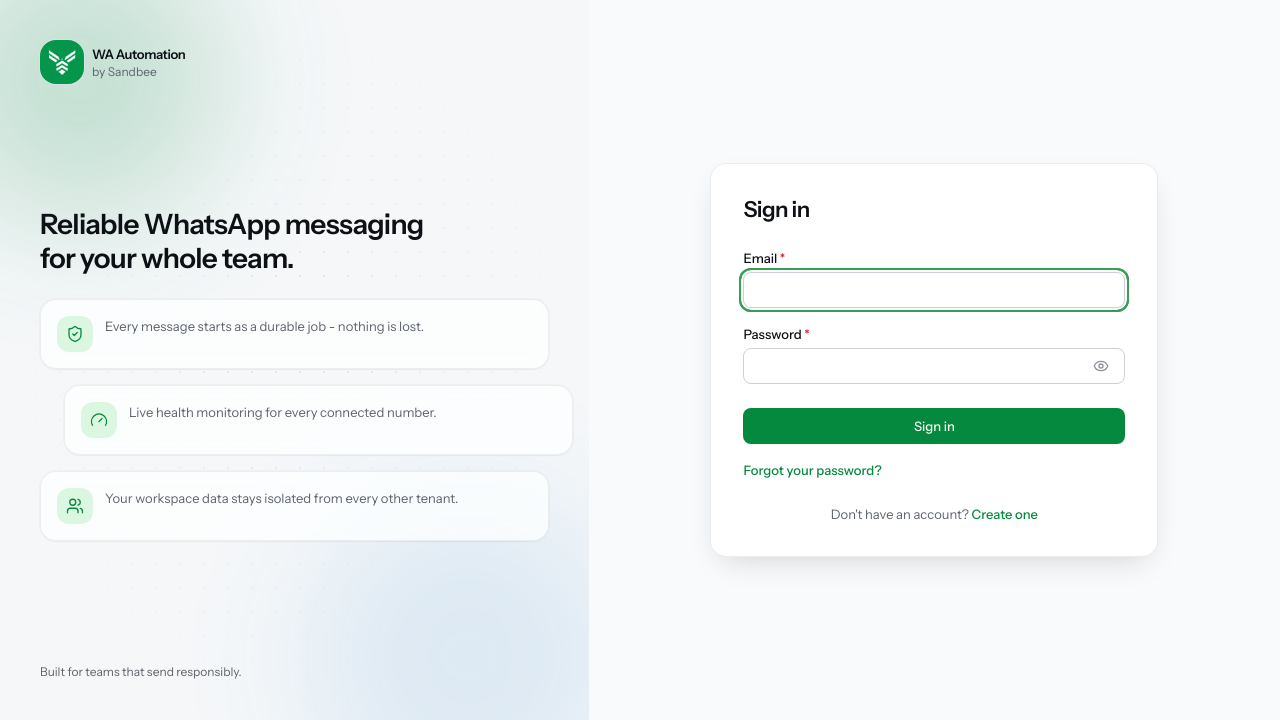
Scenario: LoginForm › maps_EMAIL_NOT_VERIFIED_to_its_copy
In the field with test id "login-email": (934, 290) top-left (743, 272), bottom-right (1125, 308), type "owner@example.com"
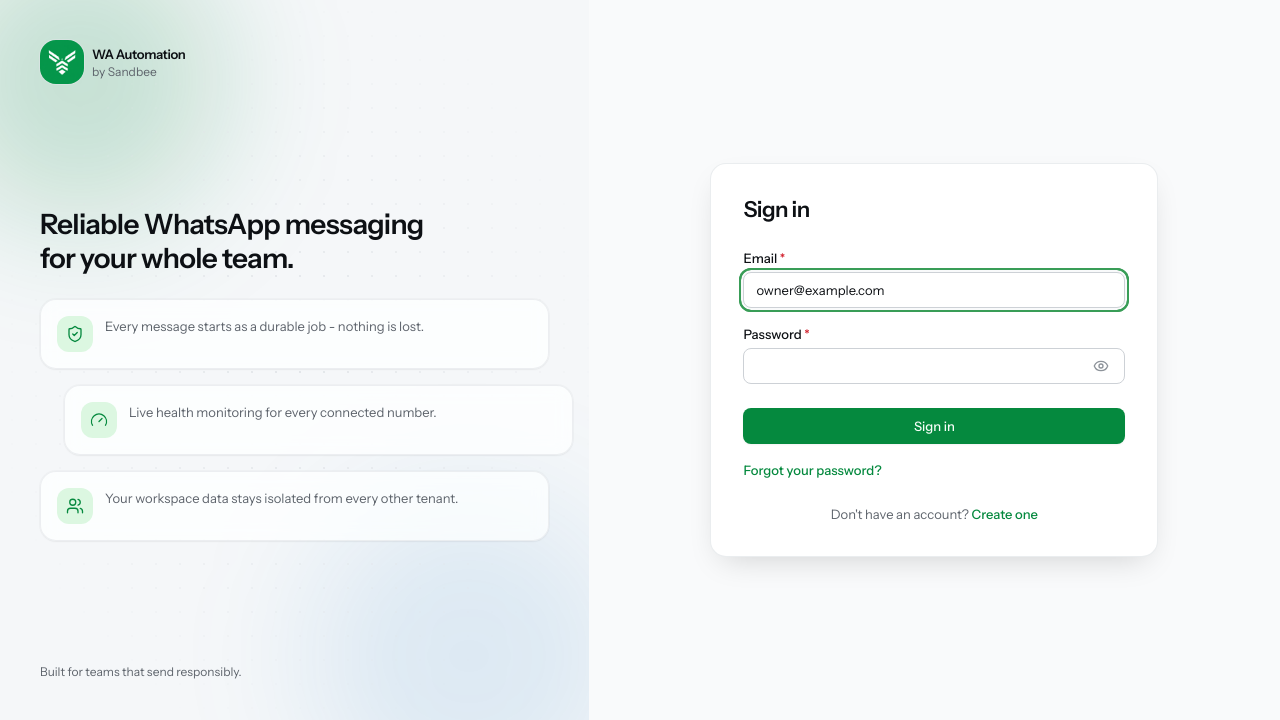
In the password field with test id "login-password": (934, 366) top-left (743, 348), bottom-right (1125, 384), type "correct horse battery staple"
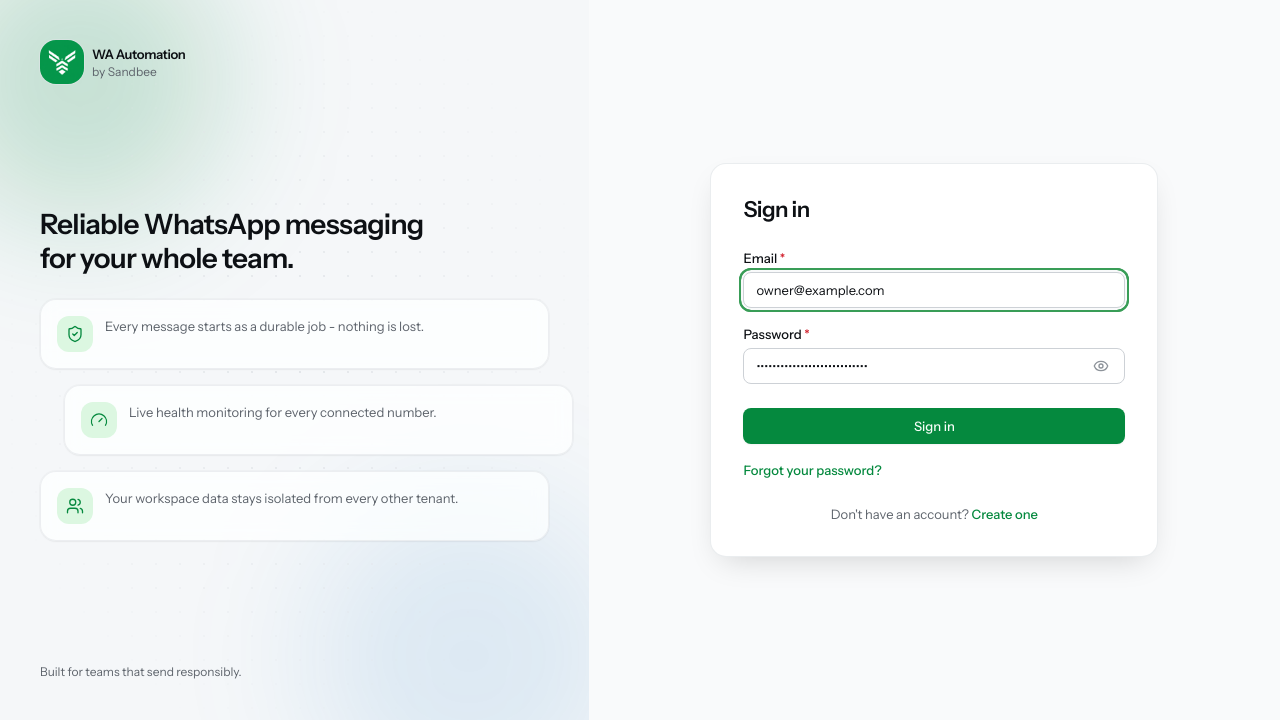
Click the button with test id "login-submit": (934, 426) top-left (743, 408), bottom-right (1125, 444)
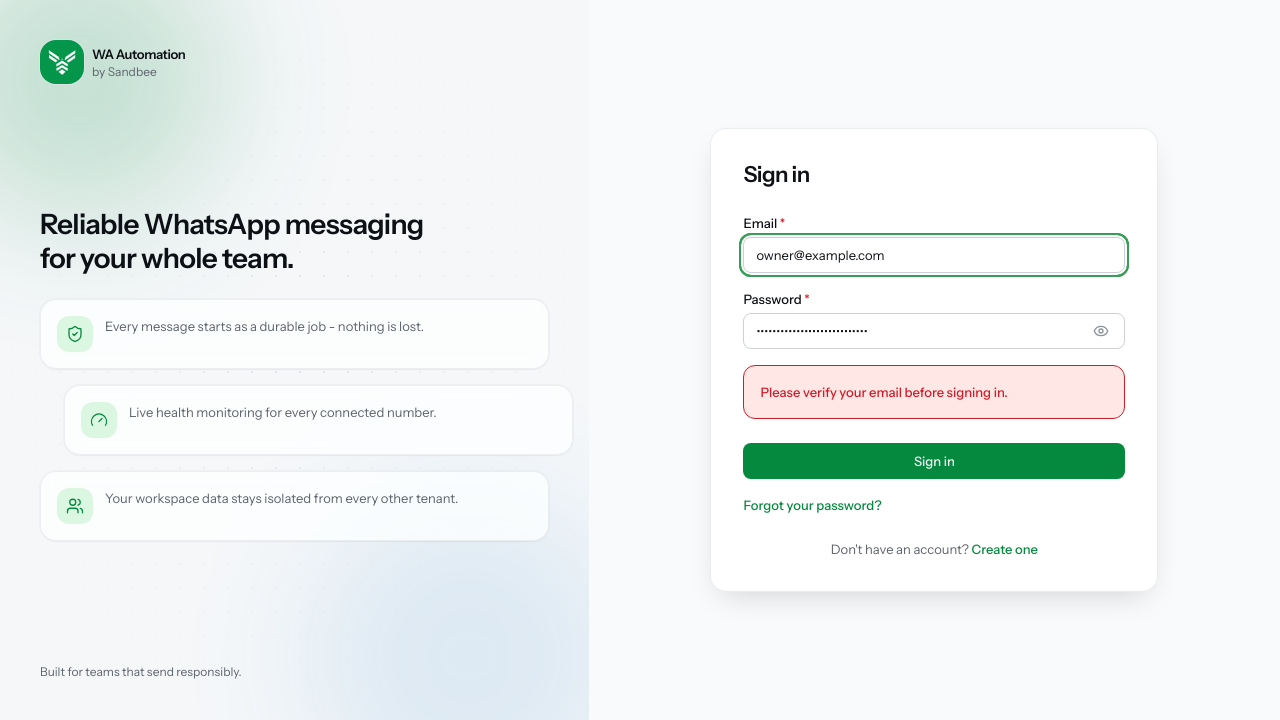
Check: the text "Please verify your email before signing in." is shown, box top-left (760, 384), bottom-right (1008, 400)
